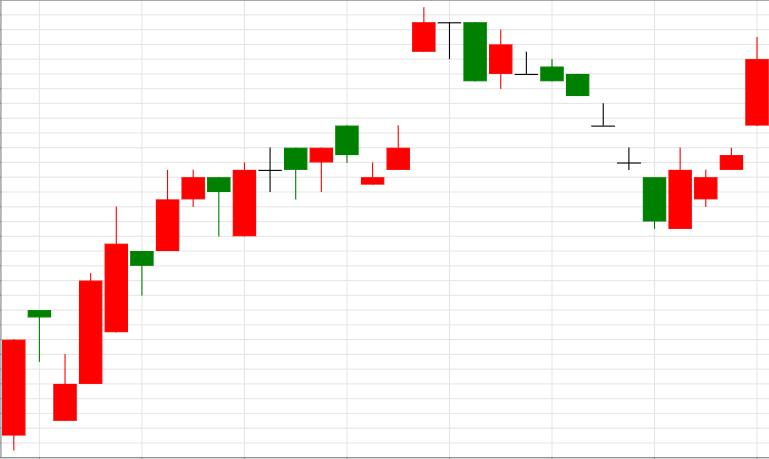bullish_engulfing_rise: (490, 30, 692, 229)
